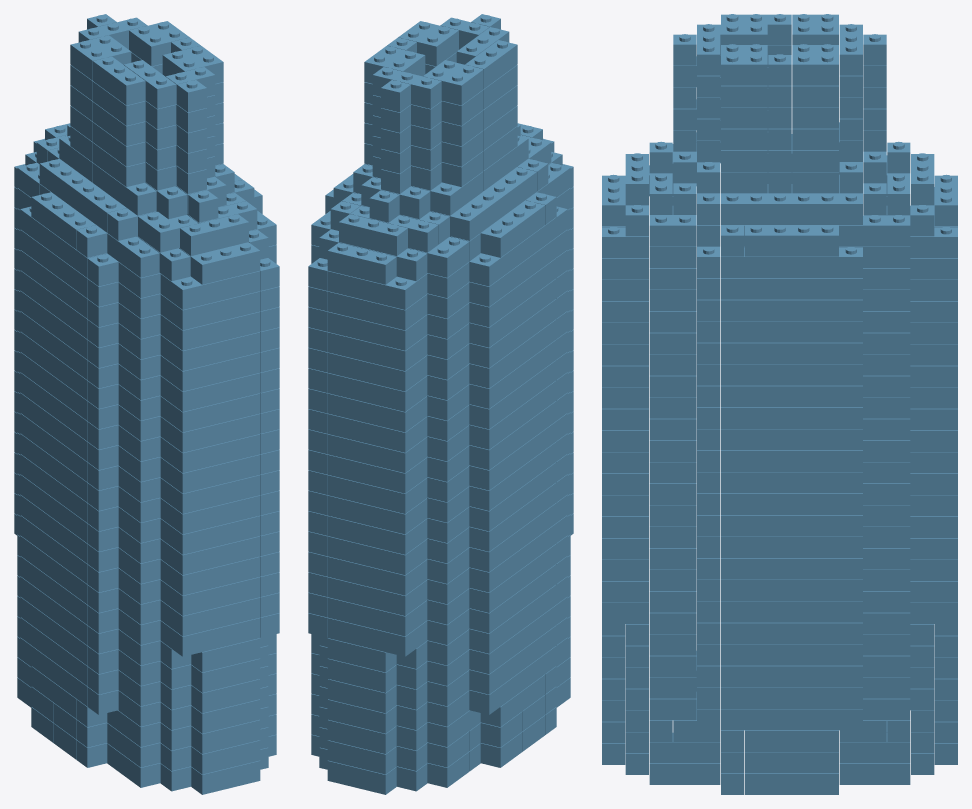
The model's file is 084_bottle_L4.glb.
3 renders of one model, left to right at view 1: azimuth 30°, elevation 25°; view 2: azimuth 150°, elevation 25°; view 3: azimuth 270°, elevation 25°, orthographic. The views are drawn at different scales.
Size of the model in its own units: 8.98 by 33.13 by 14.98.
